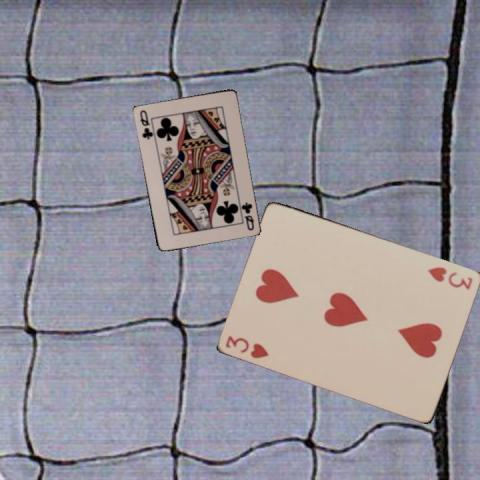3h: (425, 263, 475, 291), (222, 332, 270, 360)
Qc: (238, 199, 255, 232), (137, 106, 153, 140)
